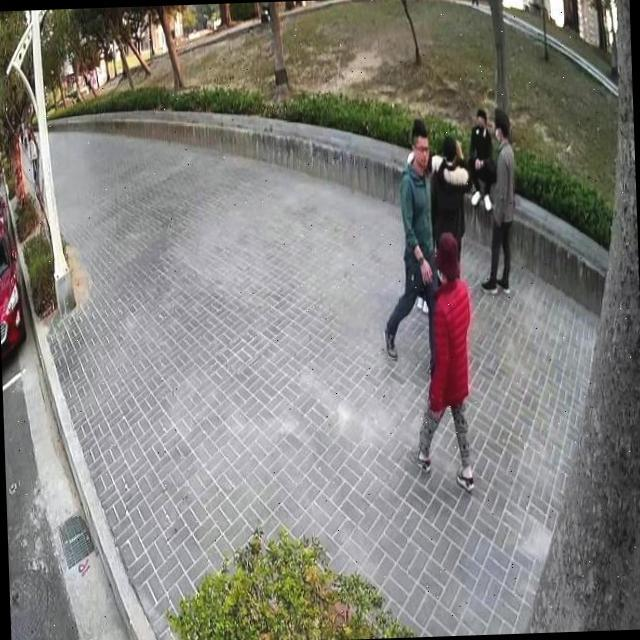person: (400, 222, 482, 500), (374, 111, 442, 381), (471, 101, 523, 297), (428, 130, 478, 288), (466, 105, 498, 214), (27, 129, 40, 187), (21, 120, 30, 150)
